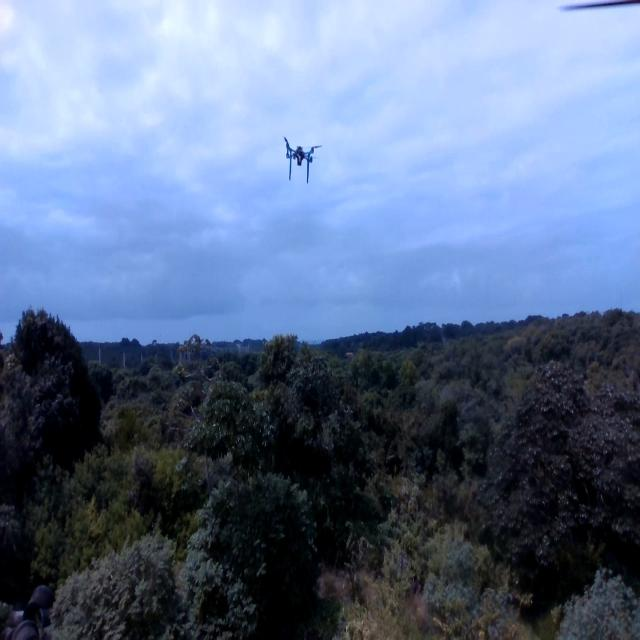-uav-: (277, 120, 331, 199)
